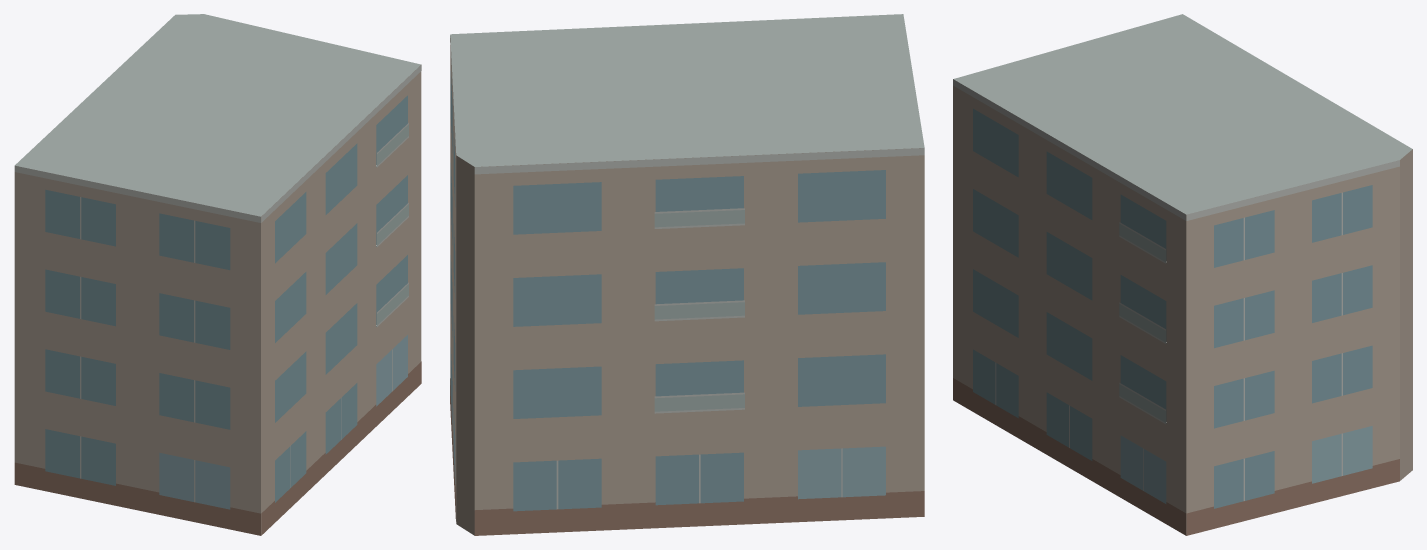
Rendered from survey-upis-32679348.glb.
3 views of the same model, side by side, from view 1: azimuth 30°, elevation 25°; view 2: azimuth 150°, elevation 25°; view 3: azimuth 270°, elevation 25° (orthographic). The views are drawn at different scales.
Visible parts, largest first — view 1: survey-upis-32679348.tmp; view 2: survey-upis-32679348.tmp; view 3: survey-upis-32679348.tmp.
Part boxes in pixels (bbox=[...]): survey-upis-32679348.tmp: bbox=[14, 14, 421, 535]; survey-upis-32679348.tmp: bbox=[450, 14, 924, 535]; survey-upis-32679348.tmp: bbox=[953, 14, 1412, 535].
Bounding box in the file's own units: 16.36 × 12.2 × 15.83.
